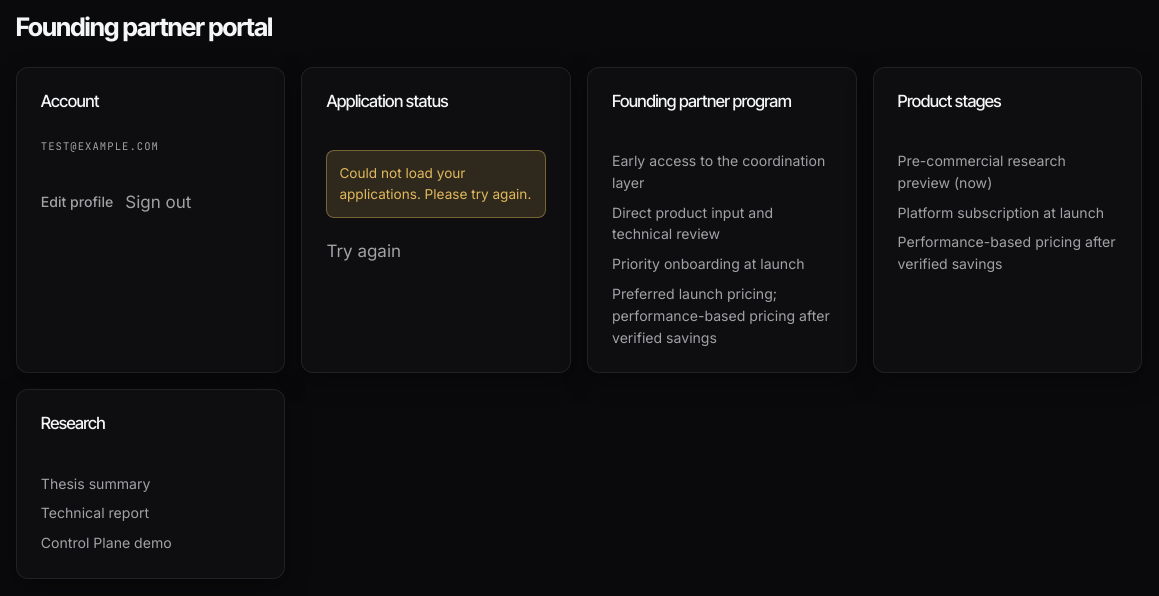
Test: account flow regressions › distinguishes a failed application read from no application and retries
expect the message "Could not load your applications. Please try again." is shown: met, box [326,150,546,218]
Click the button "Try again" at (364, 251), box [326,230,401,272]
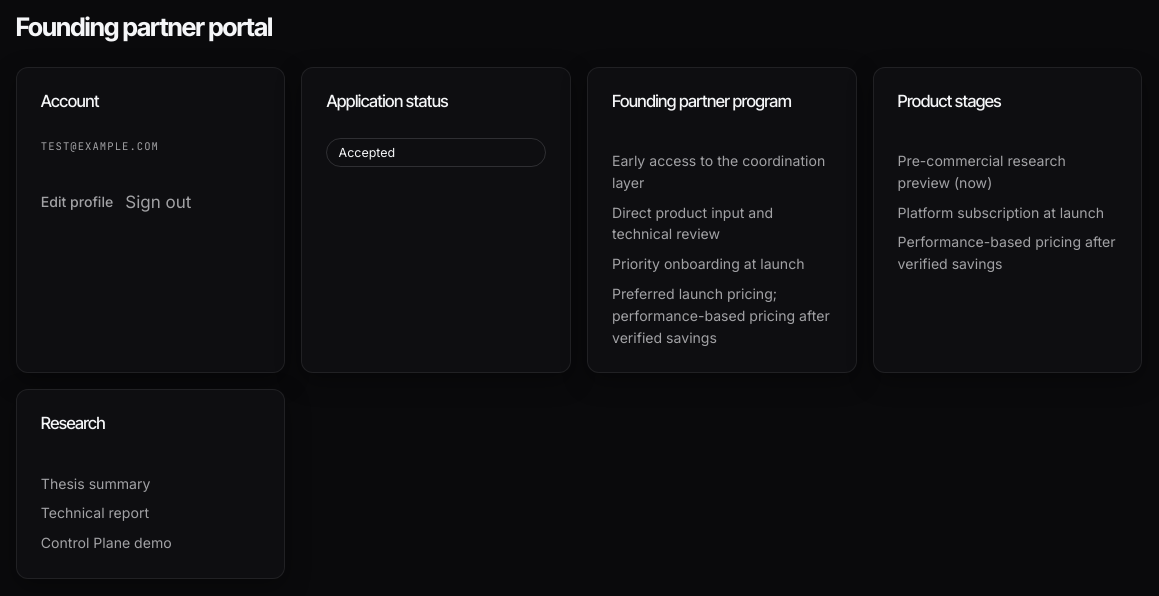
expect the text "Accepted" is shown: met, box [326,138,546,167]
